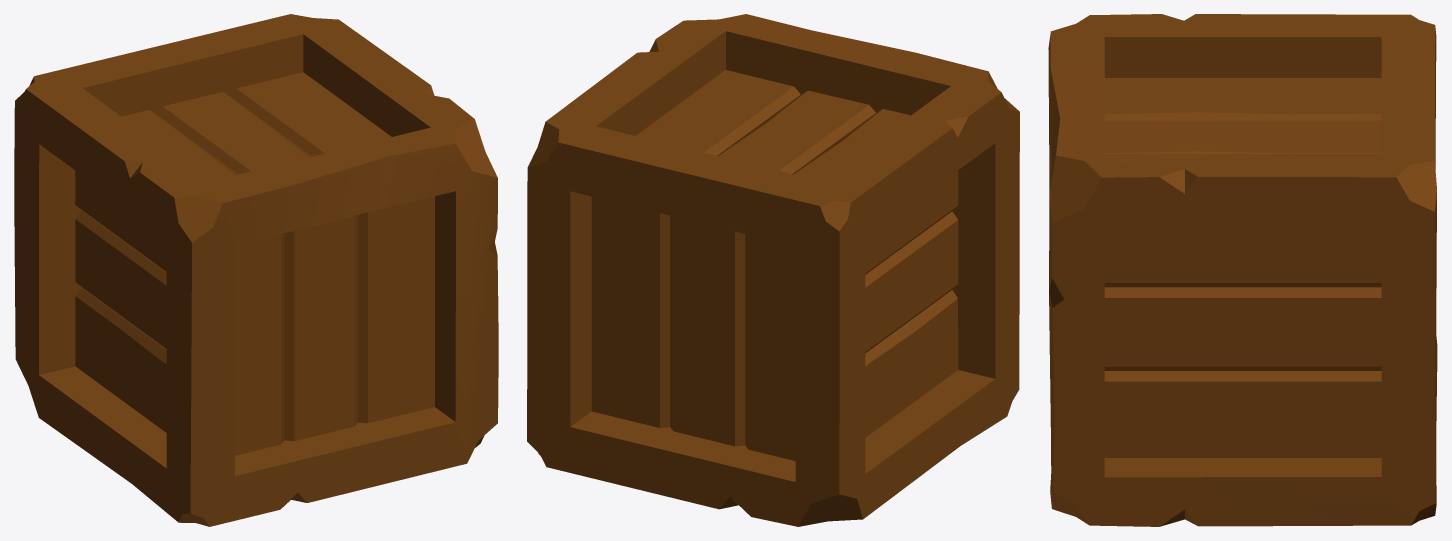
The model's file is Crate.fbx.
3 renders of one model, left to right at view 1: azimuth 30°, elevation 25°; view 2: azimuth 150°, elevation 25°; view 3: azimuth 270°, elevation 25°, orthographic. The views are drawn at different scales.
Visible parts, largest first — view 1: Crare; view 2: Crare; view 3: Crare.
Part boxes in pixels (bbox=[...]): Crare: bbox=[14, 14, 498, 526]; Crare: bbox=[527, 14, 1019, 526]; Crare: bbox=[1048, 14, 1437, 526].
Size of the model in its own units: 121 by 121 by 121.
